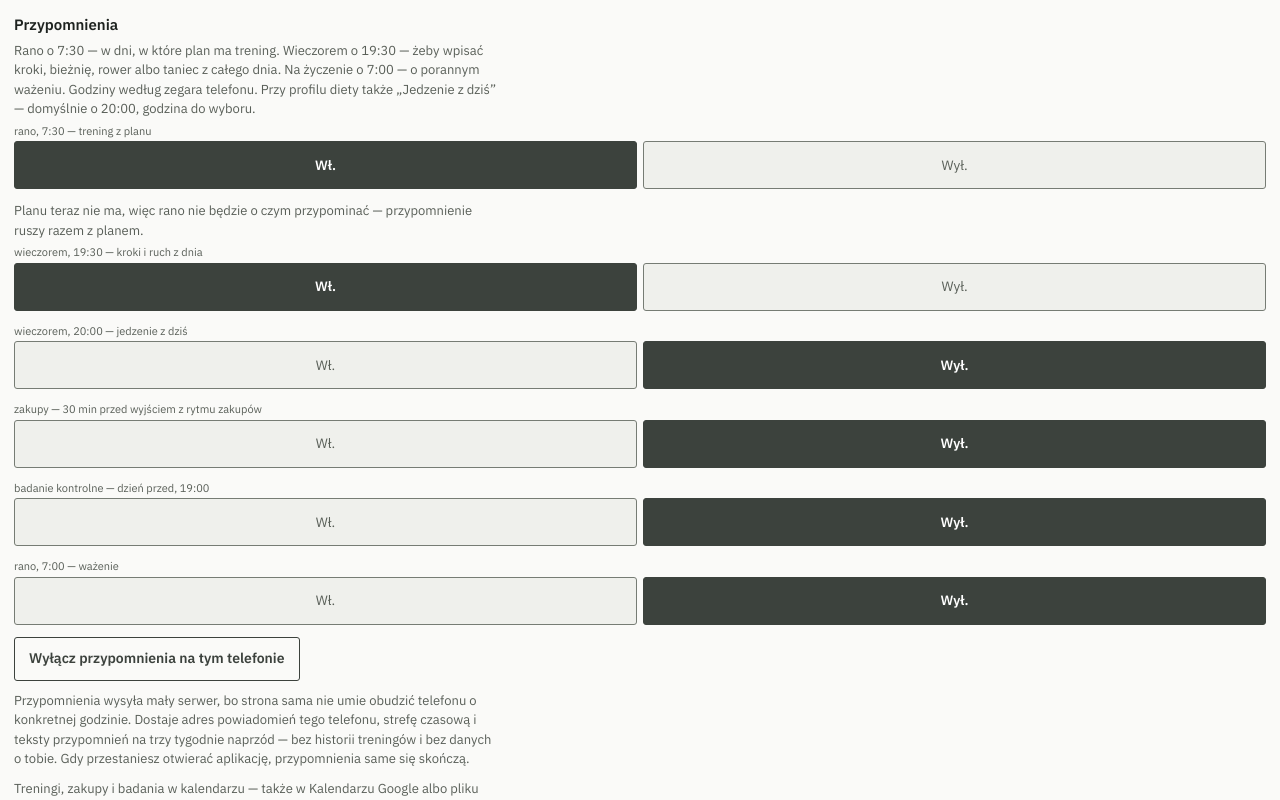
Test: przypomnienie o jedzeniu › przy profilu diety domyślnie wyłączone; po włączeniu godzina 20:00 do zmiany i wspólne powiadomienie z krokami
The width and height of the screenshot is (1280, 800).
Expected: the text "Przy profilu diety także „Jedzenie z dziś” — domyślnie o 20:00" is shown, top-left (14, 80), bottom-right (496, 117)
Expected: the dropdown labelled "Godzina przypomnienia o jedzeniu" is not shown
Click the 3rd button "Wł.". click: click(326, 365)
box: top-left (14, 341), bottom-right (637, 389)
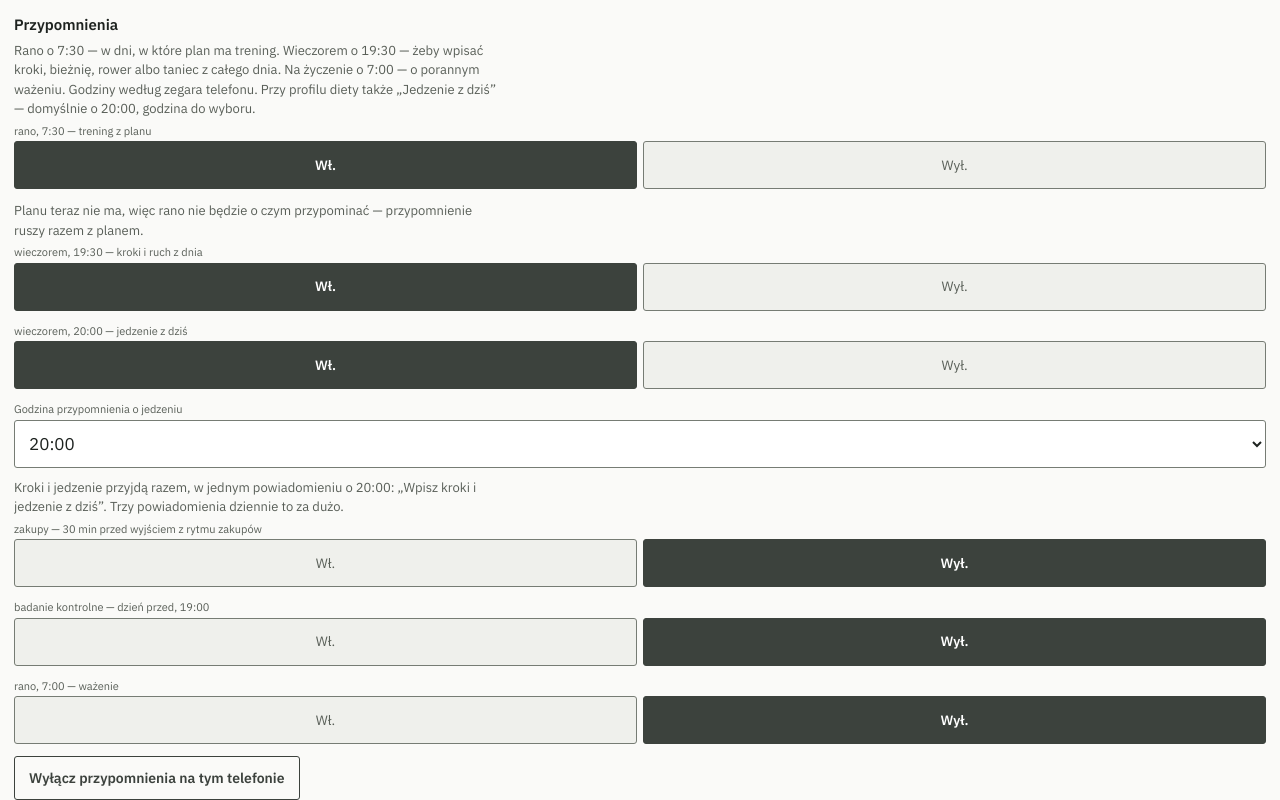
Expected: the text "w jednym powiadomieniu o 20:00: „Wpisz kroki i jedzenie z dziś”" is shown, top-left (14, 478), bottom-right (476, 515)
Expected: the dropdown labelled "Godzina przypomnienia o jedzeniu" shows "20:00"
Select "21:30" in the dropdown labelled "Godzina przypomnienia o jedzeniu". click: (640, 444)
box: top-left (14, 420), bottom-right (1266, 468)
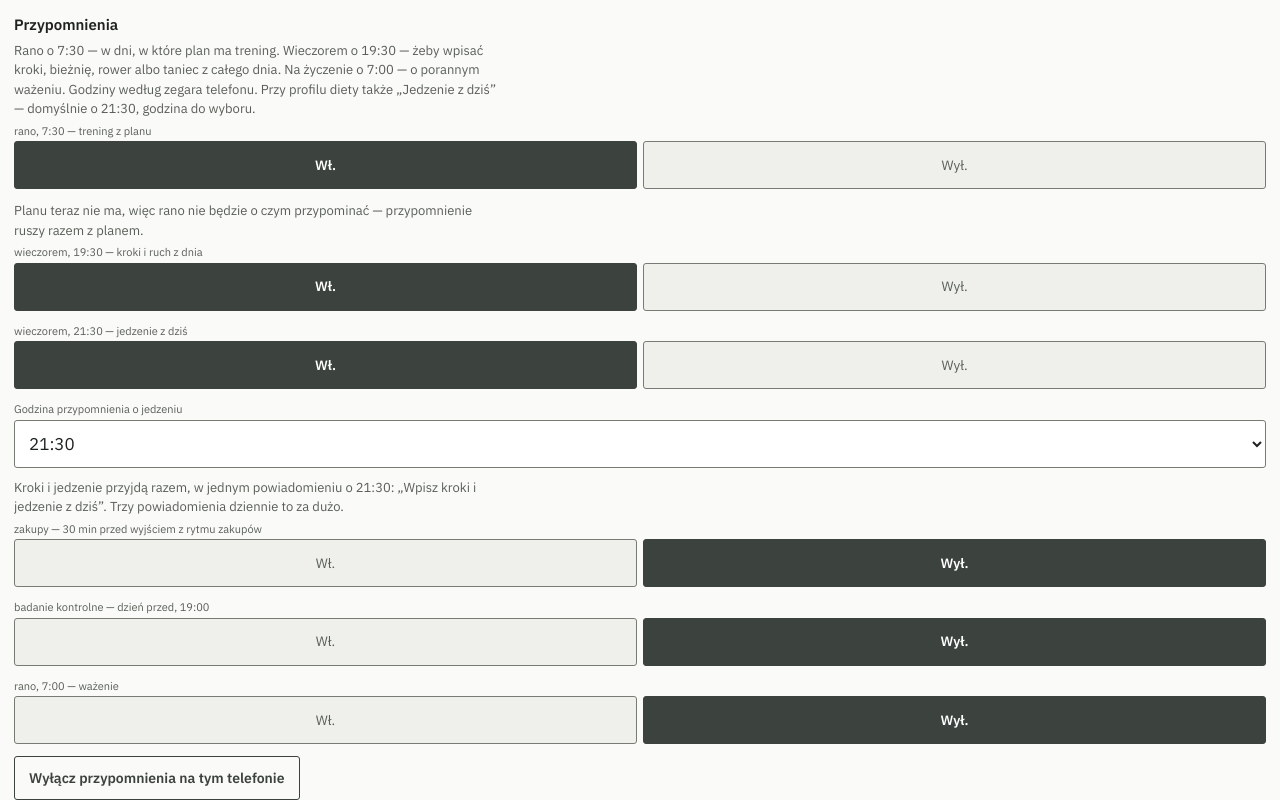
Expected: the element named "Przypomnienie o 21:30 o jedzeniu z dziś" is shown, top-left (14, 341), bottom-right (1266, 389)
Expected: the text "w jednym powiadomieniu o 21:30" is shown, top-left (14, 478), bottom-right (476, 515)
